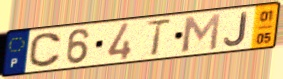4: (106, 20, 134, 62)
6: (65, 27, 92, 65)
C: (27, 32, 63, 69)
J: (222, 10, 249, 48)
M: (180, 12, 223, 54)
T: (144, 17, 173, 58)
